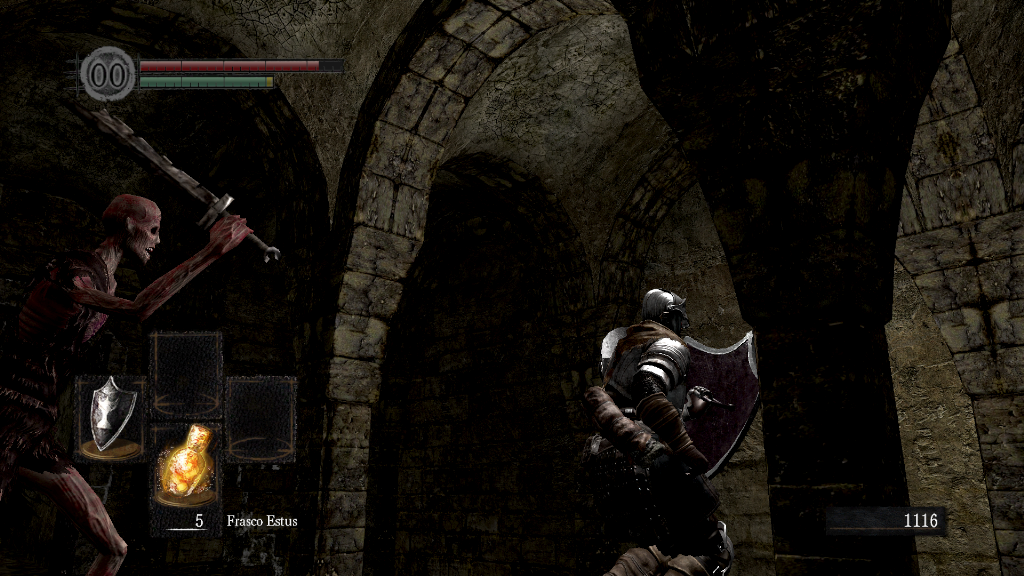health: (138, 58, 343, 71)
hollow: (1, 204, 260, 574)
humanity: (80, 45, 136, 102)
player: (582, 285, 762, 576)
souls: (825, 506, 945, 536)
stamina: (138, 74, 274, 88)
